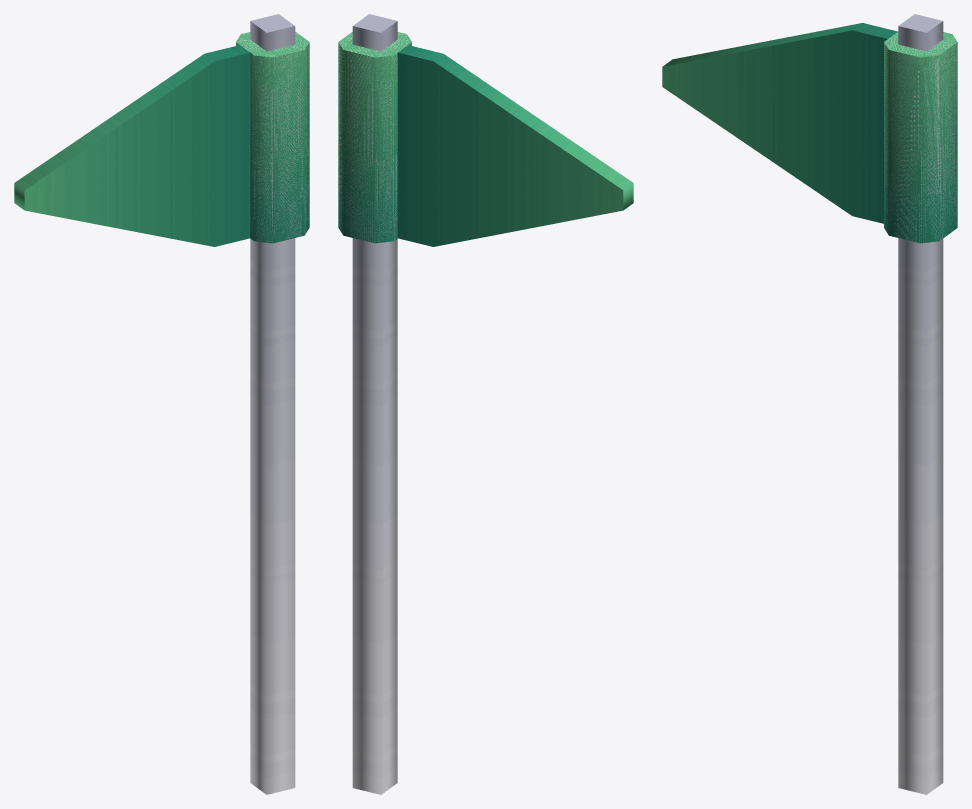
The model's file is flag_green.glb.
3 renders of one model, left to right at view 1: azimuth 30°, elevation 25°; view 2: azimuth 150°, elevation 25°; view 3: azimuth 330°, elevation 25°, orthographic.
Parts seen in each view (by area): view 1: flag-green; view 2: flag-green; view 3: flag-green.
Boxes of the visible parts, box(x1,y1,x2,y2) form: flag-green: box(14, 14, 309, 794); flag-green: box(338, 14, 633, 794); flag-green: box(662, 14, 957, 794).
Size of the model in its own units: 0.3956 by 1.02 by 0.0781.
1 material, 1 textured.
